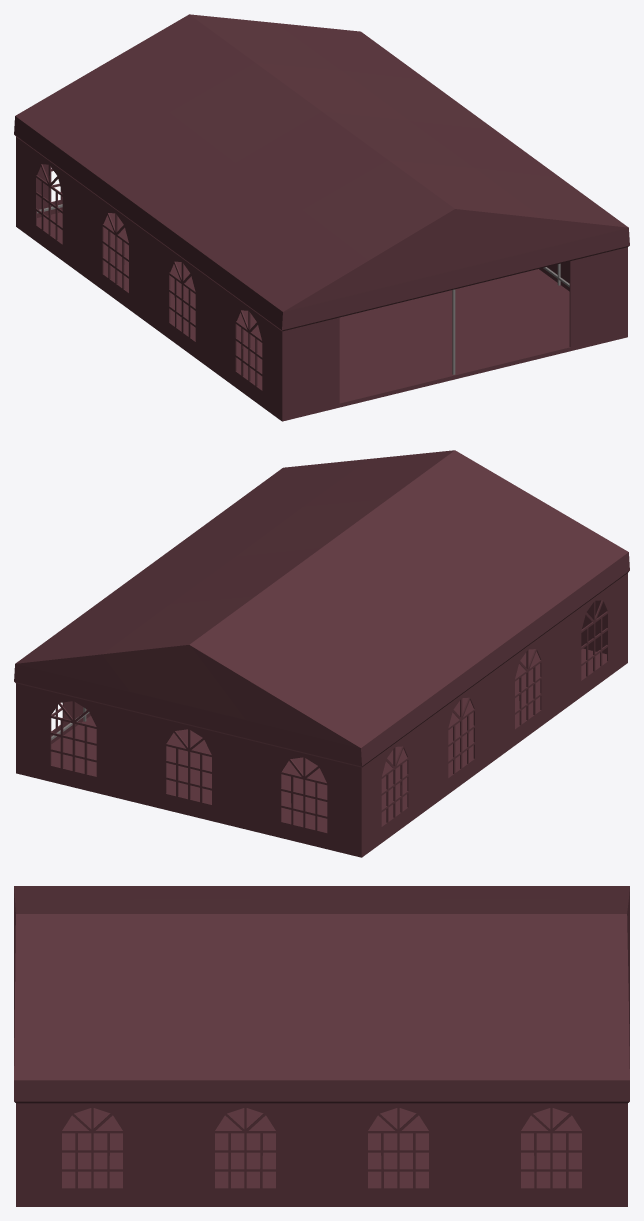
Rendered from tent-party-big.fbx.
The picture shows the model from 3 angles, top to bottom: view 1: azimuth 30°, elevation 25°; view 2: azimuth 150°, elevation 25°; view 3: azimuth 270°, elevation 25°; orthographic projection. The views are drawn at different scales.
Parts seen in each view (by area): view 1: tent-party-big; view 2: tent-party-big; view 3: tent-party-big.
Part boxes in pixels (x1=…): tent-party-big: x1=14, y1=14, x2=629, y2=421; tent-party-big: x1=14, y1=450, x2=629, y2=857; tent-party-big: x1=14, y1=886, x2=629, y2=1206.
Size of the model in its own units: 9.06 by 4.24 by 12.08.
